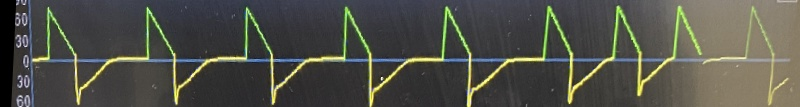normal_flow: (35, 0, 710, 107)
